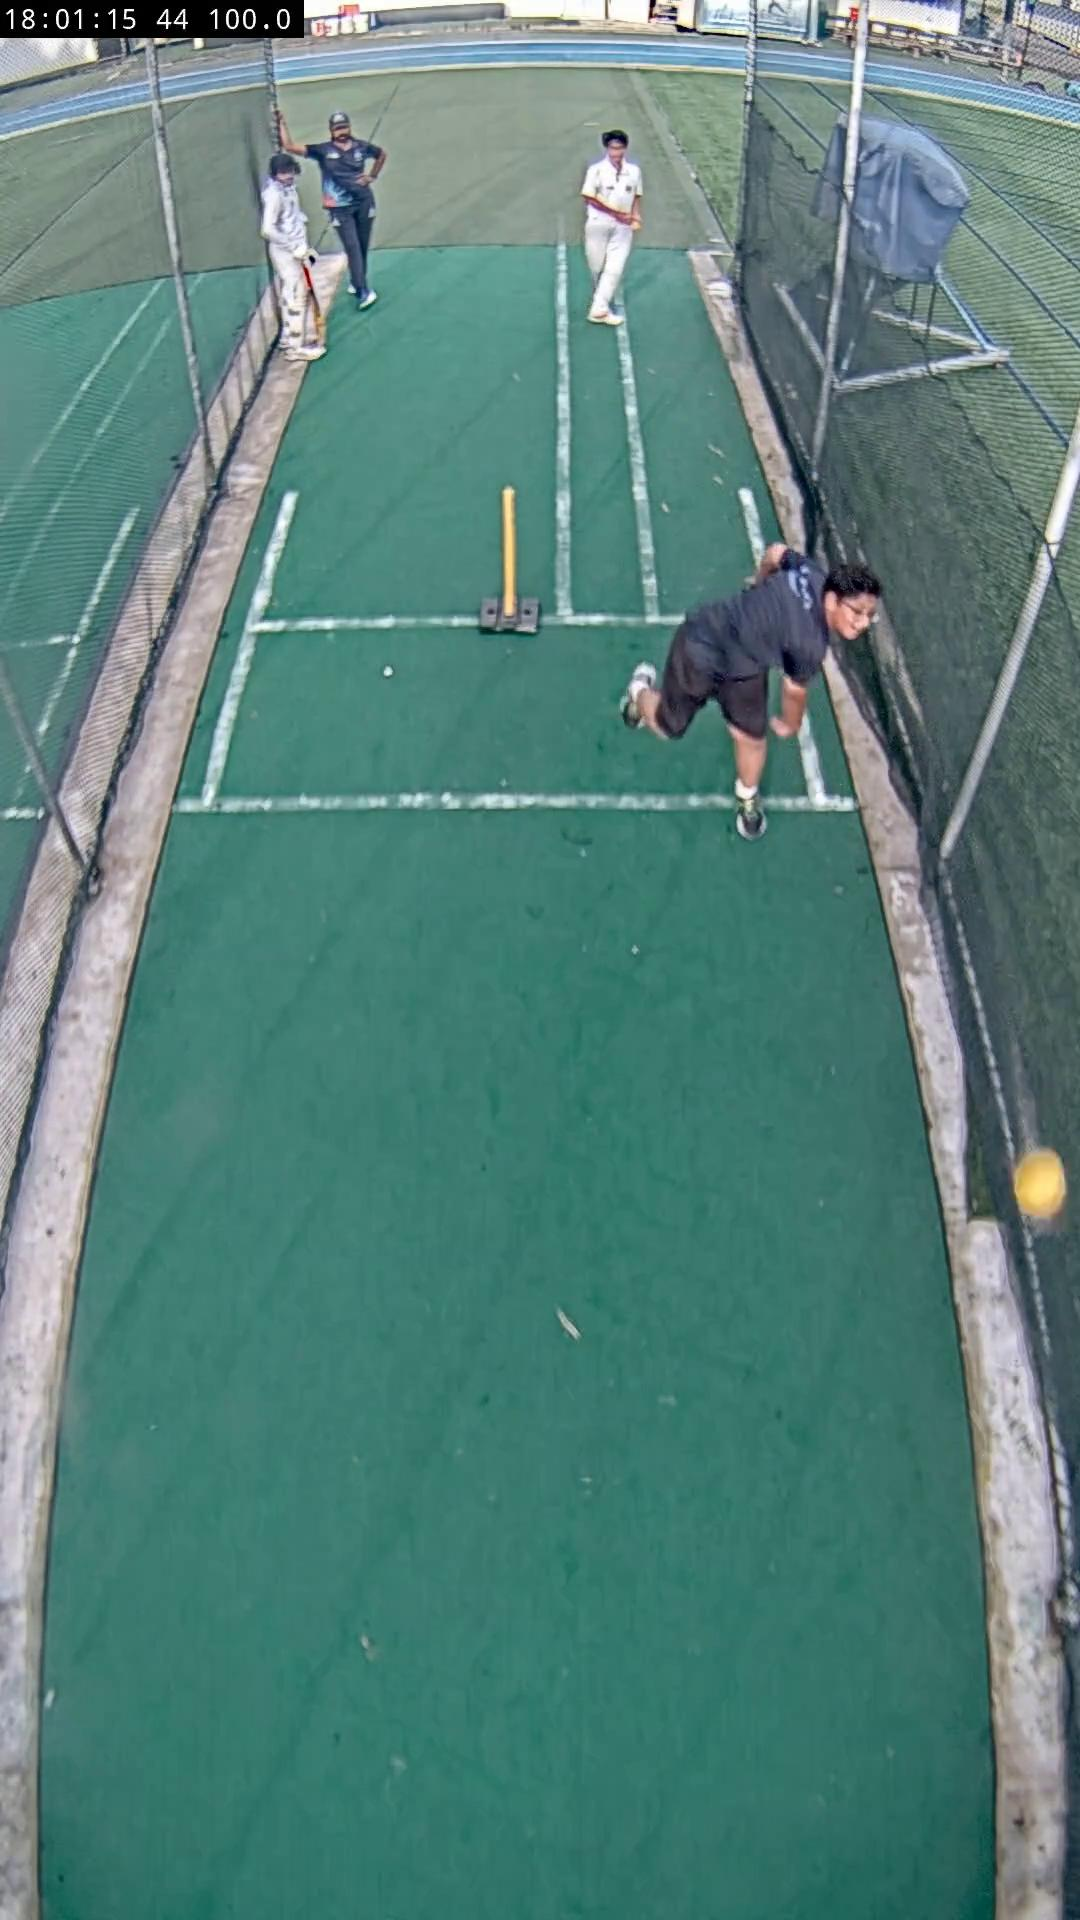ball: (1013, 1147, 1068, 1218)
stumps: (480, 488, 541, 634)
